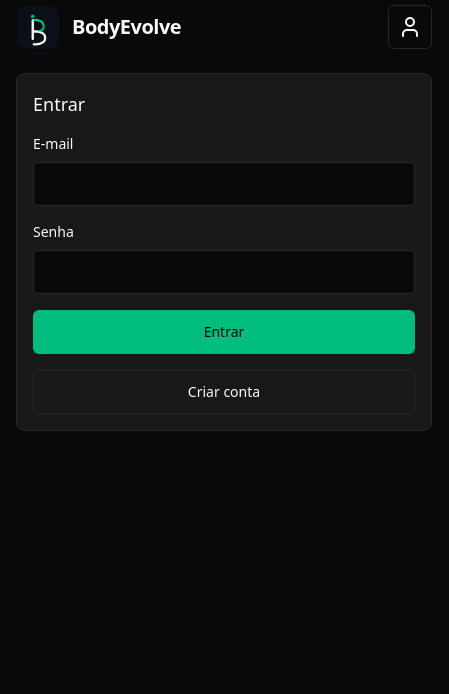
Scenario: mostra o aviso que a API devolveu
Type "ana@example.com" into the field labelled "E-mail" at (224, 184), box [33,162,415,206]
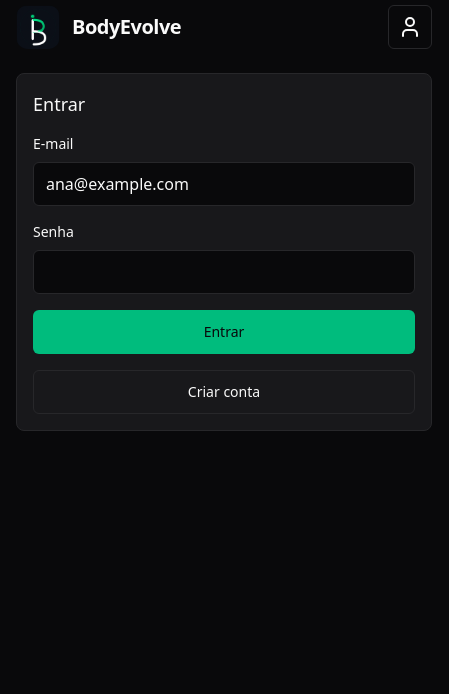
Type "senha-segura" into the password field labelled "Senha" at (224, 272), box [33,250,415,294]
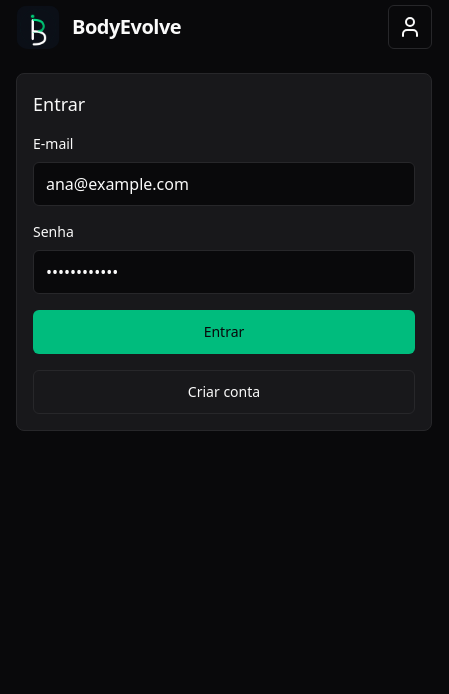
Submit the form "Entrar", box [33,90,415,414]
(page scrolled)
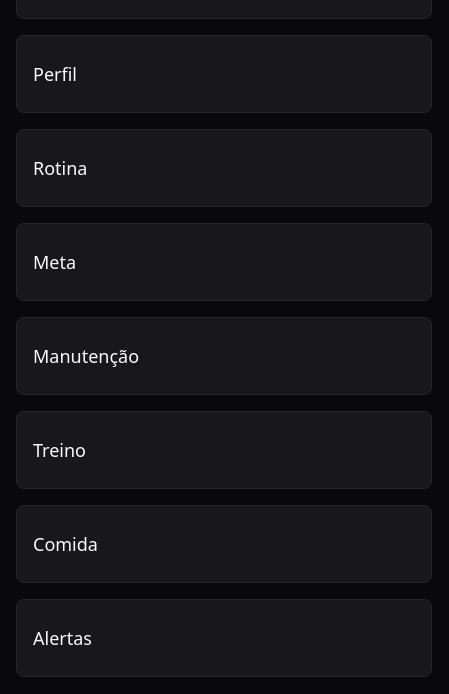
Click the link "Alertas" at (62, 638), box [33,626,92,650]
(page scrolled)
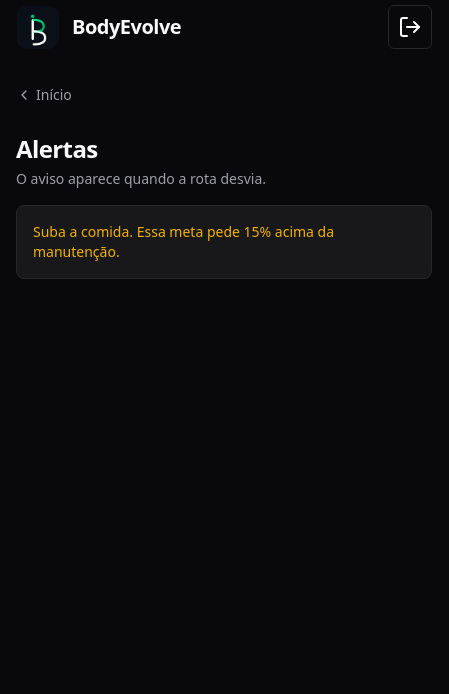
Now the text "Suba a comida. Essa meta pede 15% acima da manutenção." is shown, box [33,222,334,261]
